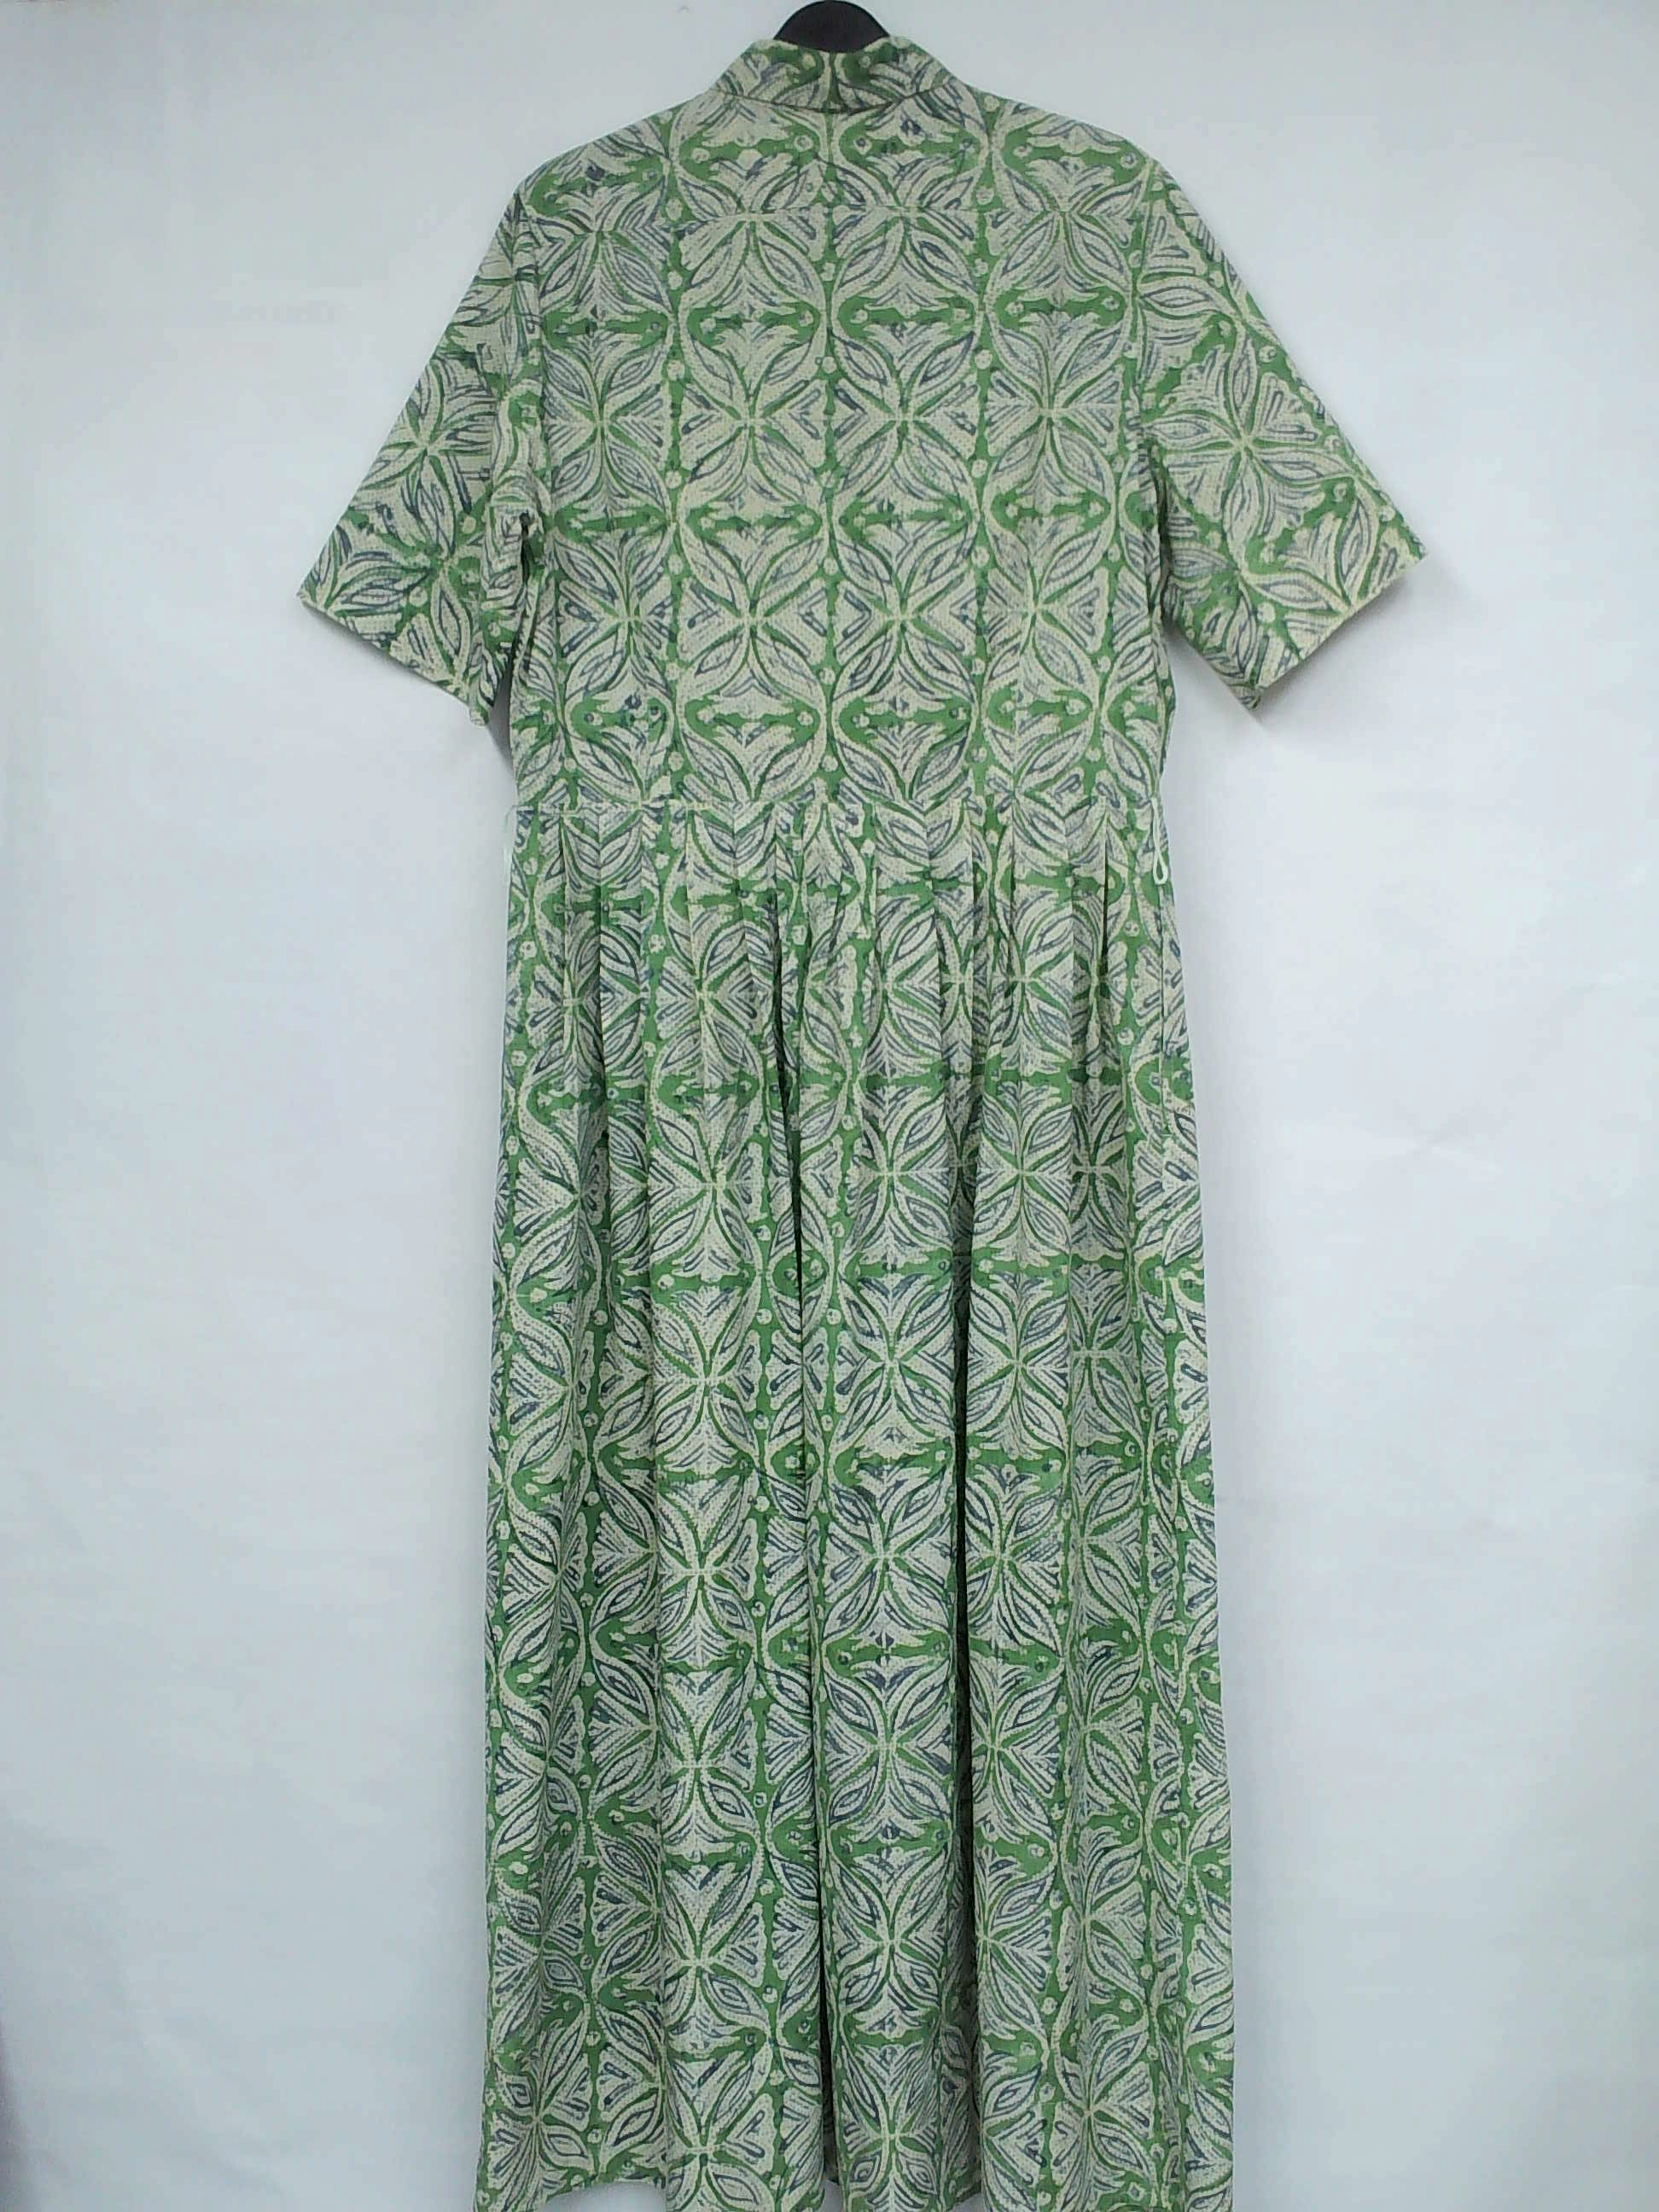seam: (552, 768, 1124, 838)
